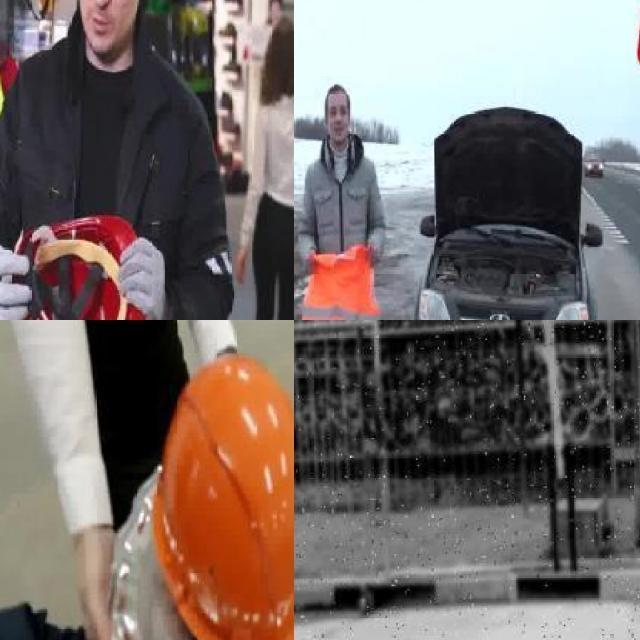apron: (116, 235, 168, 320), (0, 242, 30, 320)
